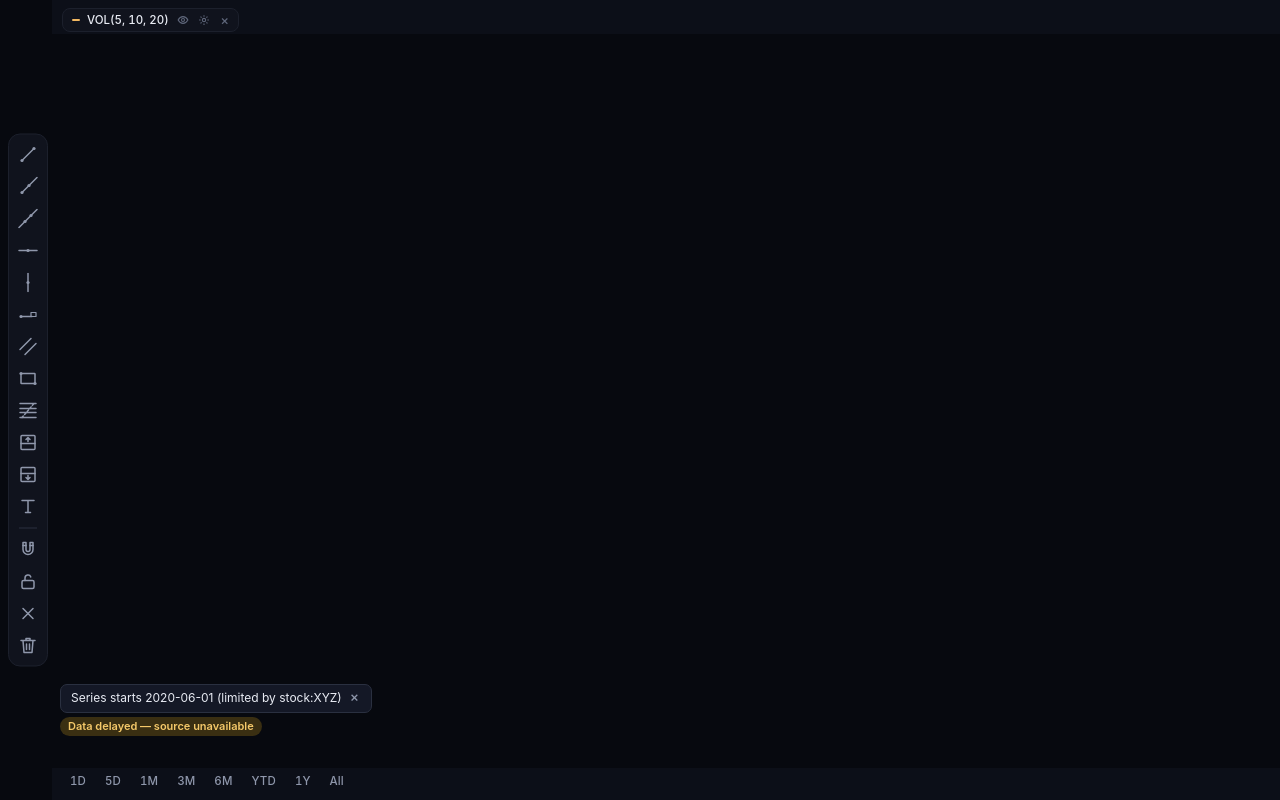
ChartView › shows the stale badge, dismissible notices and error toasts; passes markers to the adapter
The image size is (1280, 800).
Check: the text "Data delayed — source unavailable" is shown, box [60,717,262,736]
Check: the text "Series starts 2020-06-01 (limited by stock:XYZ)" is shown, box [71,690,342,707]
Click the button named "Dismiss notice": (354, 697) [348,690,361,704]
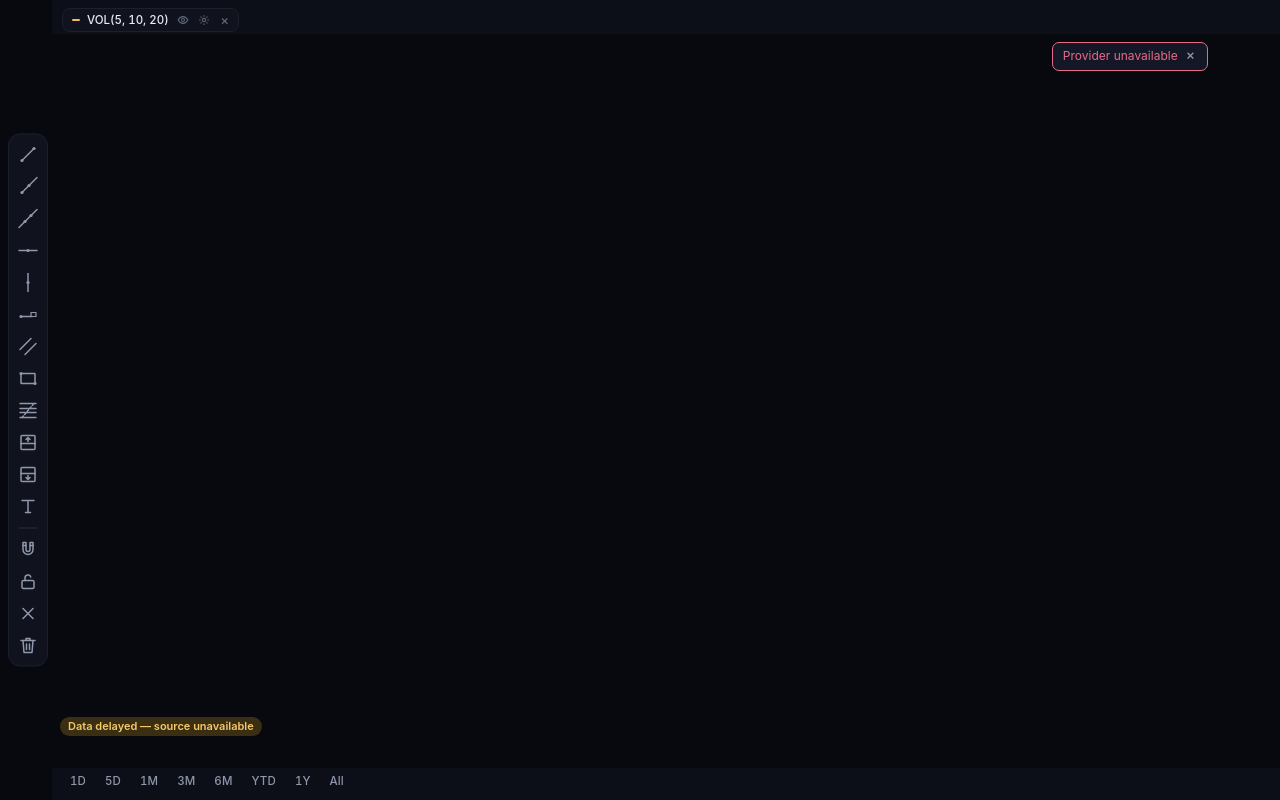
Check: the text "limited by stock:XYZ" is gone
Check: the message "Provider unavailable ×" is shown, box [1052,42,1208,71]
